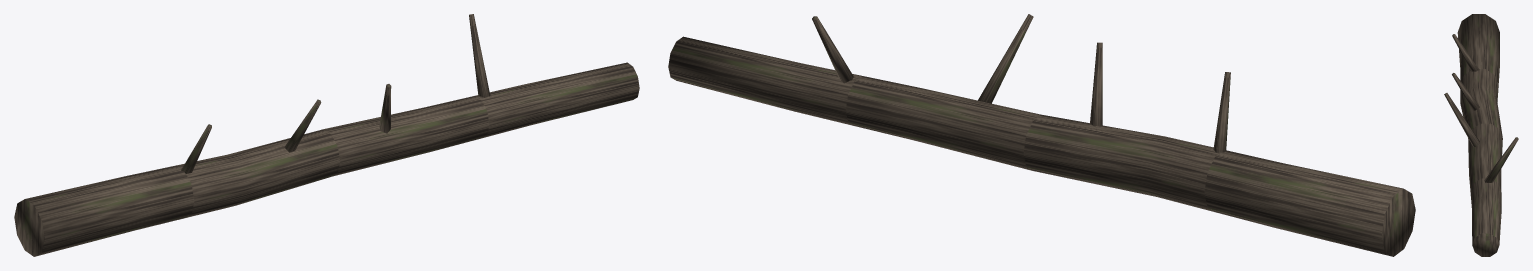
The model's file is Log_Fallen_1.gltf.
3 views of the same model, side by side, from view 1: azimuth 30°, elevation 25°; view 2: azimuth 150°, elevation 25°; view 3: azimuth 270°, elevation 25° (orthographic). The views are drawn at different scales.
Parts seen in each view (by area): view 1: Log_Fallen_1; view 2: Log_Fallen_1; view 3: Log_Fallen_1.
Boxes of the visible parts, x1,y1,x2,y2 form: Log_Fallen_1: [14, 14, 639, 256]; Log_Fallen_1: [668, 14, 1415, 256]; Log_Fallen_1: [1444, 14, 1518, 256].
Bounding box in the file's own units: 8.01 × 1.34 × 1.21.
Materials: 1 (1 with a texture image).
